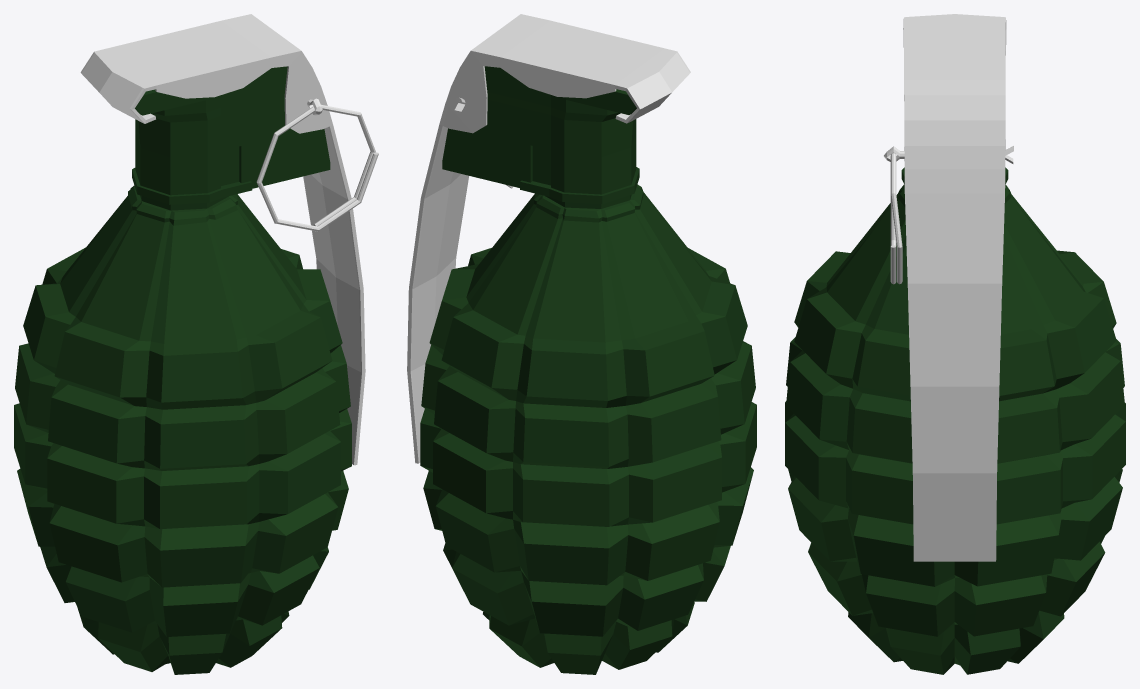
Rendered from Mk2Grenade.fbx.
3 views of the same model, side by side, from view 1: azimuth 30°, elevation 25°; view 2: azimuth 150°, elevation 25°; view 3: azimuth 270°, elevation 25° (orthographic).
Parts seen in each view (by area): view 1: main, plate, pin; view 2: main, plate; view 3: main, plate, pin.
Boxes of the visible parts, x1,y1,x2,y2 form: main: (14, 66, 351, 674); plate: (80, 14, 365, 465); pin: (256, 98, 378, 231); main: (420, 66, 756, 674); plate: (407, 14, 690, 463); main: (785, 167, 1125, 674); plate: (903, 14, 1006, 561); pin: (884, 146, 1013, 284).
Size of the model in its own units: 533 by 964 by 499.
